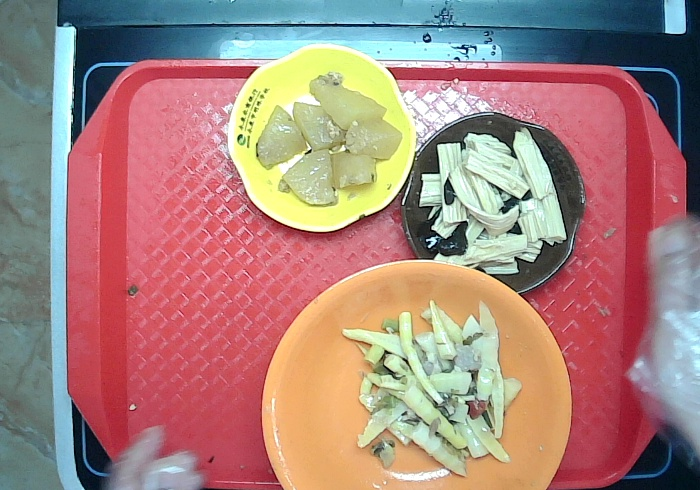YKMZ-Huang_Se_Ao_Bian_Wan: (220, 39, 432, 248)
YKMZ-Ju_Se_Tang_Wan: (256, 235, 575, 490)
YKMZ-Ka_Fei_Ao_Bian_Wan: (391, 104, 594, 306)
